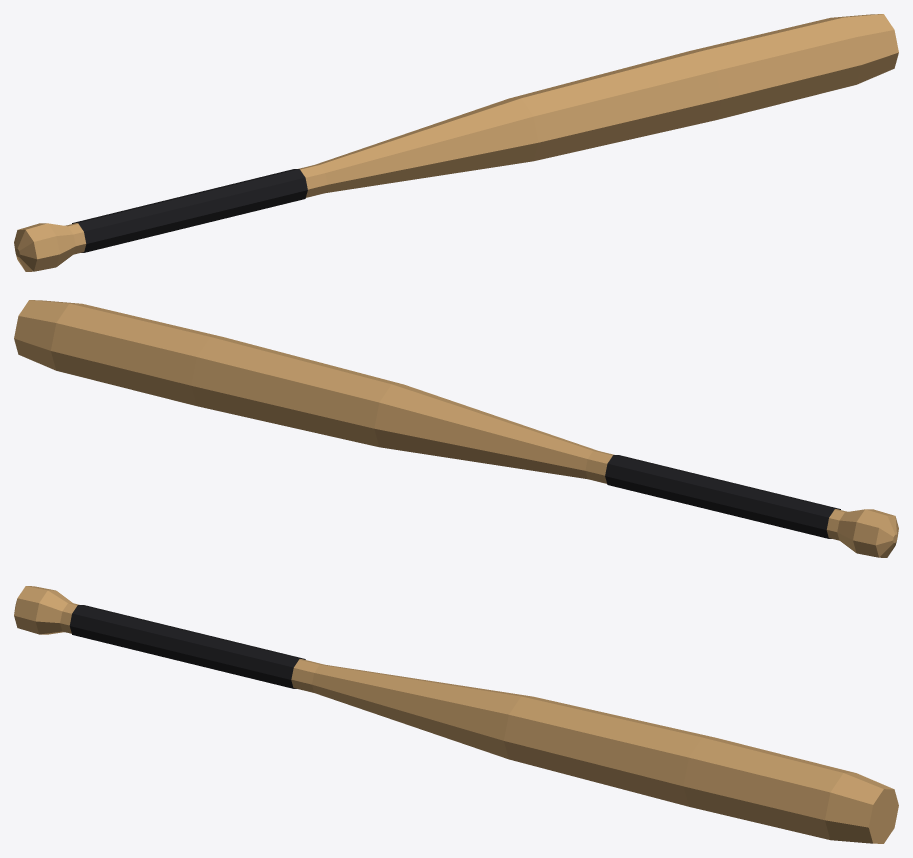
File: GS_BaseballBat_Wood_01.glb
3 renders of one model, top to bottom at view 1: azimuth 30°, elevation 25°; view 2: azimuth 150°, elevation 25°; view 3: azimuth 330°, elevation 25°, orthographic.
Parts seen in each view (by area): view 1: GS_BaseballBat_Wood_01; view 2: GS_BaseballBat_Wood_01; view 3: GS_BaseballBat_Wood_01.
Part boxes in pixels (<box>): GS_BaseballBat_Wood_01: <box>14,14,898,271</box>; GS_BaseballBat_Wood_01: <box>14,300,898,557</box>; GS_BaseballBat_Wood_01: <box>14,586,898,843</box>.
Size of the model in its own units: 0.86 by 0.066 by 0.066.
Materials: 1 (1 with a texture image).
